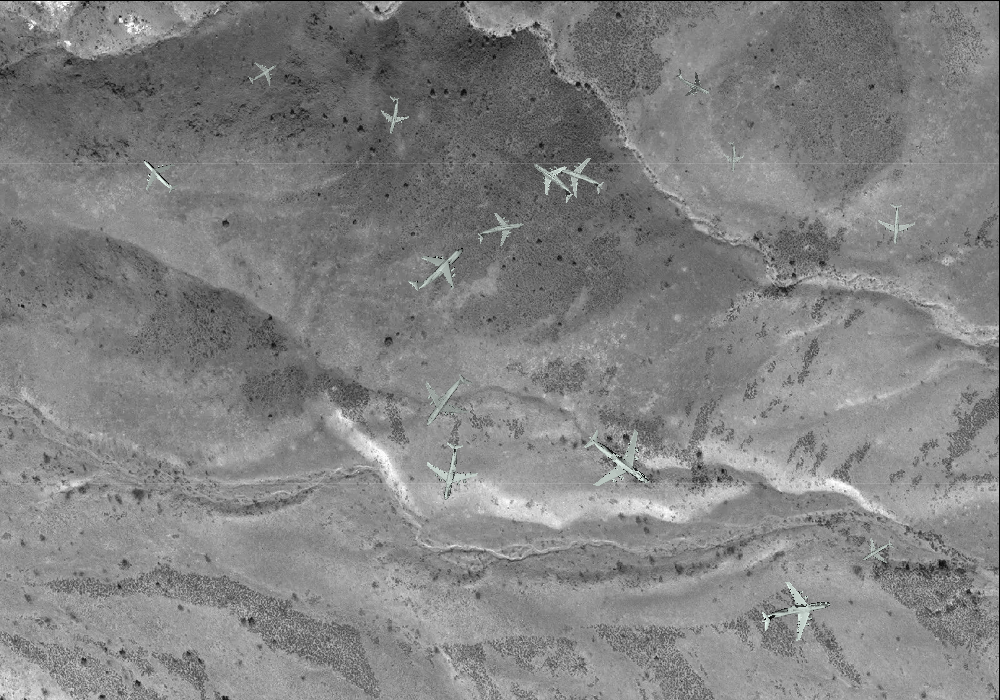plane: (567, 409, 670, 510), (404, 358, 489, 443), (395, 226, 479, 310), (755, 573, 837, 651), (417, 437, 483, 505), (519, 148, 586, 213), (548, 147, 611, 208), (129, 145, 188, 204), (473, 206, 527, 255), (668, 60, 717, 106), (855, 529, 901, 574), (875, 201, 917, 246), (372, 92, 413, 137), (241, 51, 284, 93), (718, 140, 746, 173)
